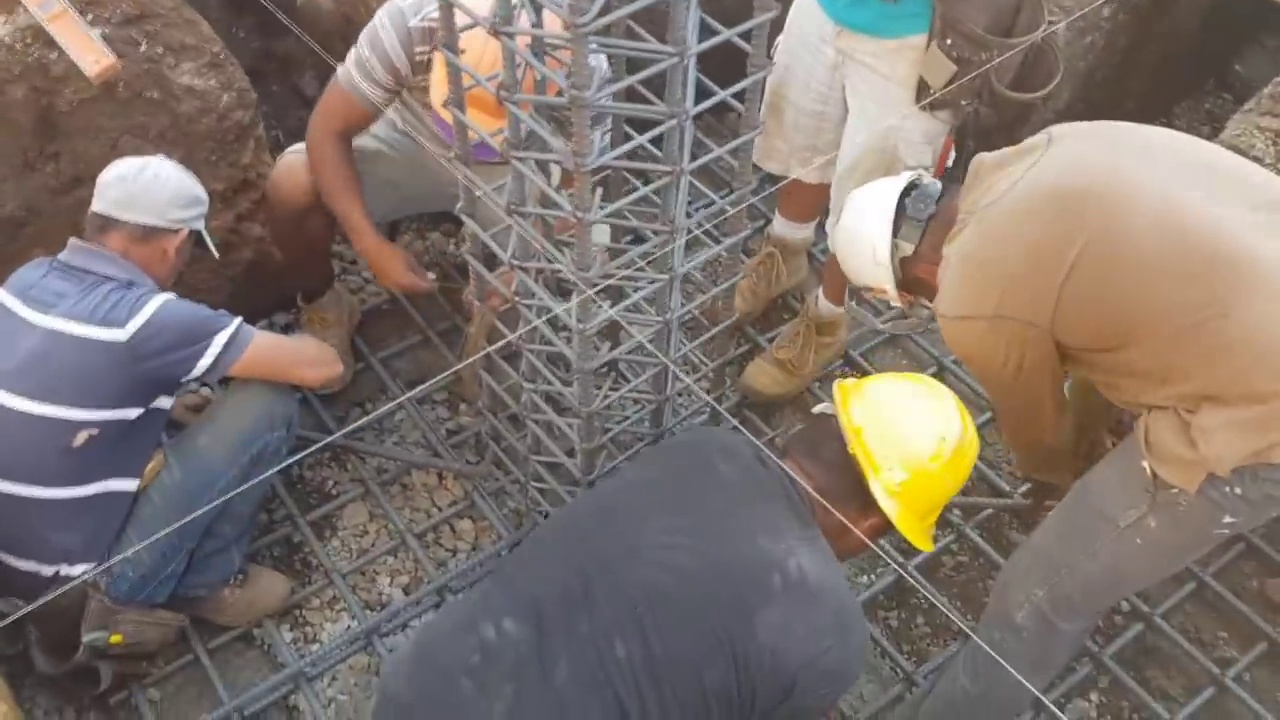helmet: (829, 370, 982, 552), (423, 3, 574, 142), (832, 166, 936, 316)
helmet-off: (76, 148, 211, 284)
helmet-on: (778, 370, 985, 562), (834, 149, 979, 316), (414, 2, 576, 143)
person: (835, 117, 1280, 708), (334, 365, 985, 720), (0, 141, 348, 665), (263, 0, 618, 335), (729, 0, 944, 404)
